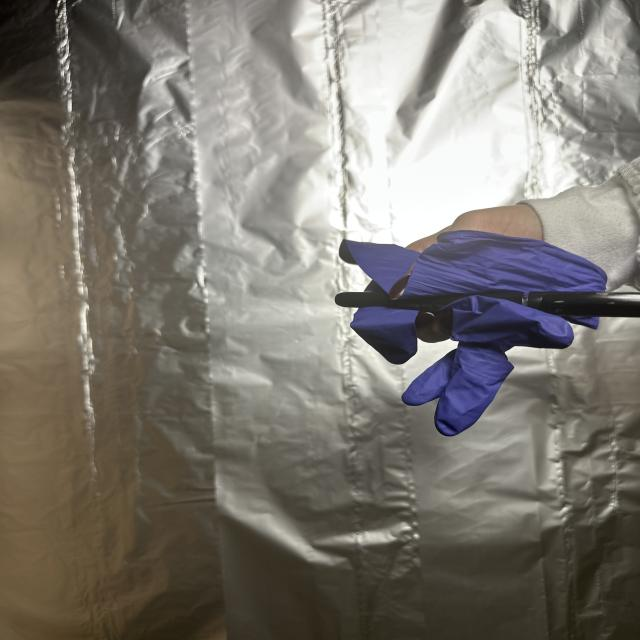glove_not_fitted: (332, 199, 613, 439)
